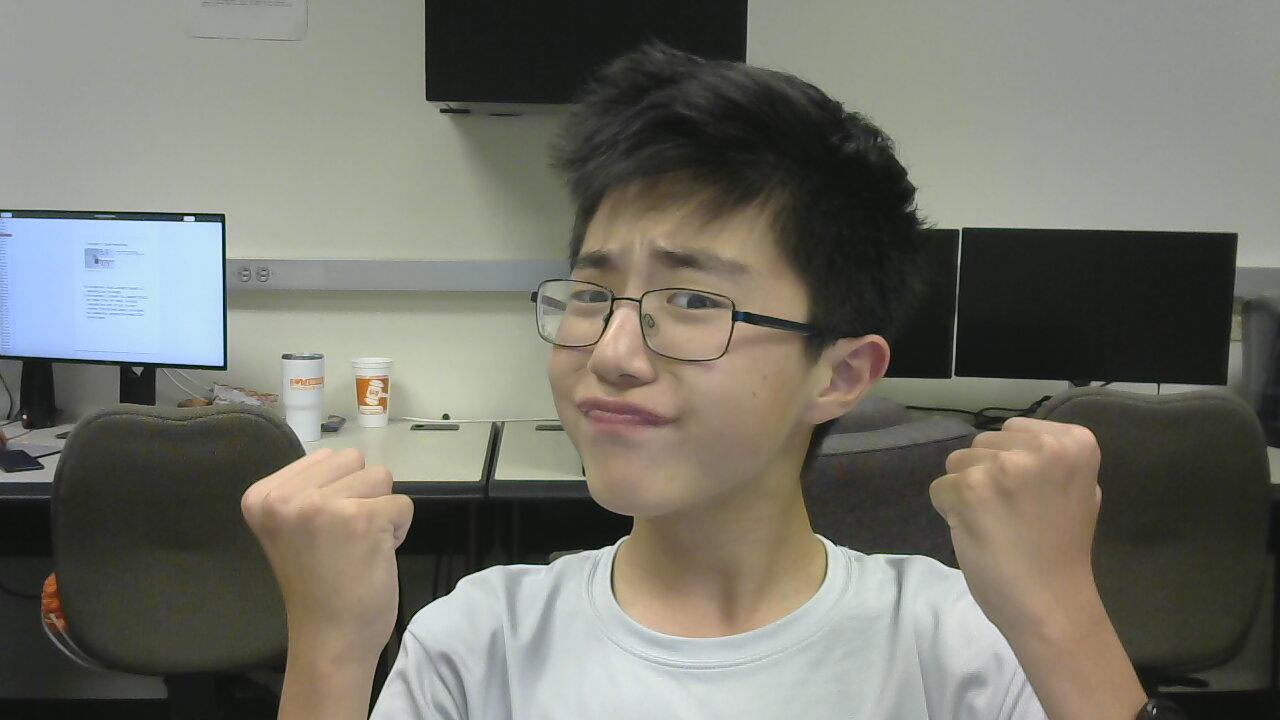fist: (213, 417, 449, 646), (921, 412, 1154, 621)
